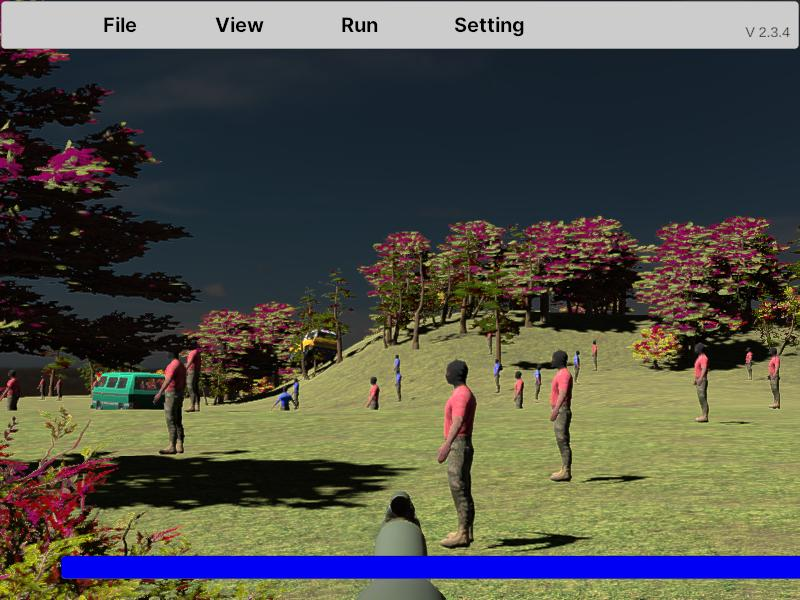Human: (436, 359, 476, 548), (154, 346, 186, 449), (549, 349, 572, 481), (184, 338, 202, 412), (693, 342, 709, 423), (272, 388, 297, 425), (767, 346, 781, 410), (367, 375, 380, 427), (513, 371, 524, 425)
car: (90, 371, 168, 414), (298, 328, 340, 366)
